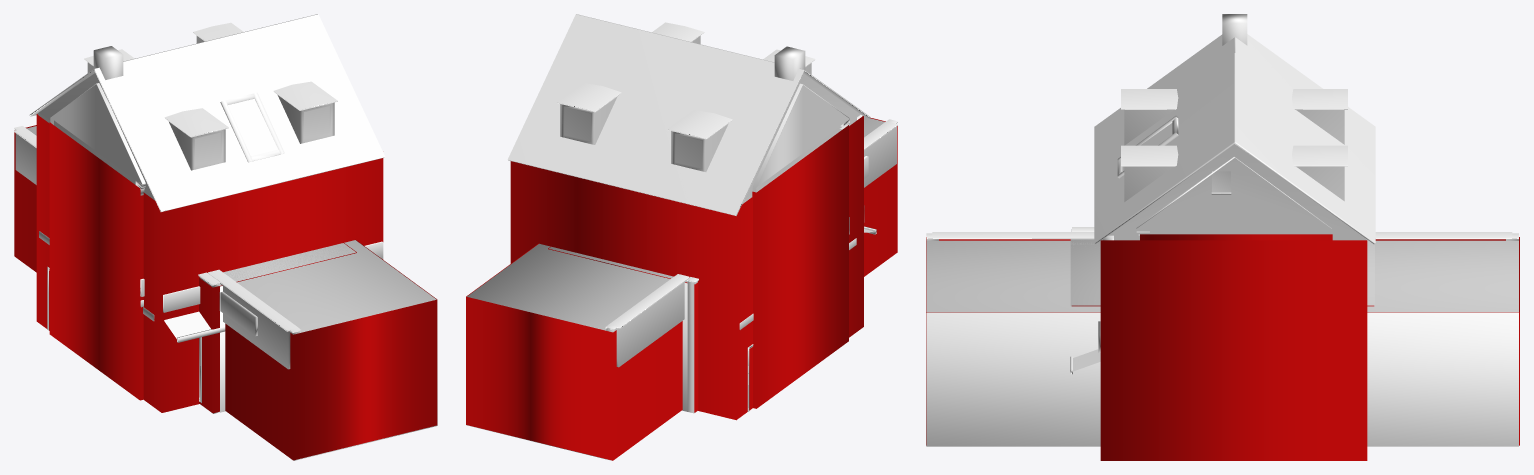
The model's file is geschaefte_02.fbx.
The picture shows the model from 3 angles, left to right: view 1: azimuth 30°, elevation 25°; view 2: azimuth 150°, elevation 25°; view 3: azimuth 270°, elevation 25°; orthographic projection. The views are drawn at different scales.
Parts seen in each view (by area): view 1: geschaeft_02c, colmesh_geschaeft_02c, colmesh_geschaeft_02a, colmesh_geschaeft_02d, geschaeft_02a, geschaeft_02d, geschaeft_02b, colmesh_geschaeft_02b; view 2: geschaeft_02c, colmesh_geschaeft_02c, colmesh_geschaeft_02a, colmesh_geschaeft_02d, geschaeft_02a, geschaeft_02d, geschaeft_02b, colmesh_geschaeft_02b; view 3: geschaeft_02a, colmesh_geschaeft_02c, geschaeft_02c, geschaeft_02b, colmesh_geschaeft_02d, colmesh_geschaeft_02a, geschaeft_02d.
Boxes of the visible parts, x1,y1,x2,y2 form: geschaeft_02c: (29, 14, 385, 342); colmesh_geschaeft_02c: (36, 114, 383, 412); colmesh_geschaeft_02a: (14, 125, 437, 460); colmesh_geschaeft_02d: (49, 122, 143, 400); geschaeft_02a: (14, 126, 437, 460); geschaeft_02d: (50, 83, 145, 307); geschaeft_02b: (198, 243, 356, 413); colmesh_geschaeft_02b: (199, 242, 356, 413); geschaeft_02c: (507, 14, 876, 411); colmesh_geschaeft_02c: (510, 116, 863, 420); colmesh_geschaeft_02a: (466, 117, 897, 460); colmesh_geschaeft_02d: (752, 125, 848, 408); geschaeft_02a: (466, 117, 897, 460); geschaeft_02d: (752, 83, 849, 234); geschaeft_02b: (579, 254, 698, 413); colmesh_geschaeft_02b: (548, 246, 698, 412); geschaeft_02a: (926, 232, 1518, 446); colmesh_geschaeft_02c: (1100, 240, 1367, 460); geschaeft_02c: (1070, 14, 1375, 374); geschaeft_02b: (1070, 227, 1374, 306); colmesh_geschaeft_02d: (1140, 234, 1332, 240); colmesh_geschaeft_02a: (926, 237, 1519, 445); geschaeft_02d: (1136, 53, 1331, 235).
Size of the model in its own units: 760 by 1006 by 1628.
